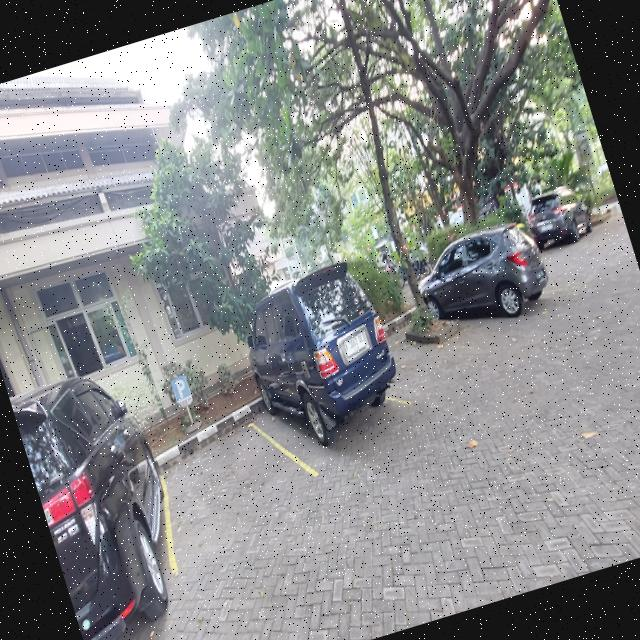empty: (160, 423, 317, 568), (388, 332, 463, 406)
occupied: (10, 374, 179, 640), (246, 261, 413, 478)
